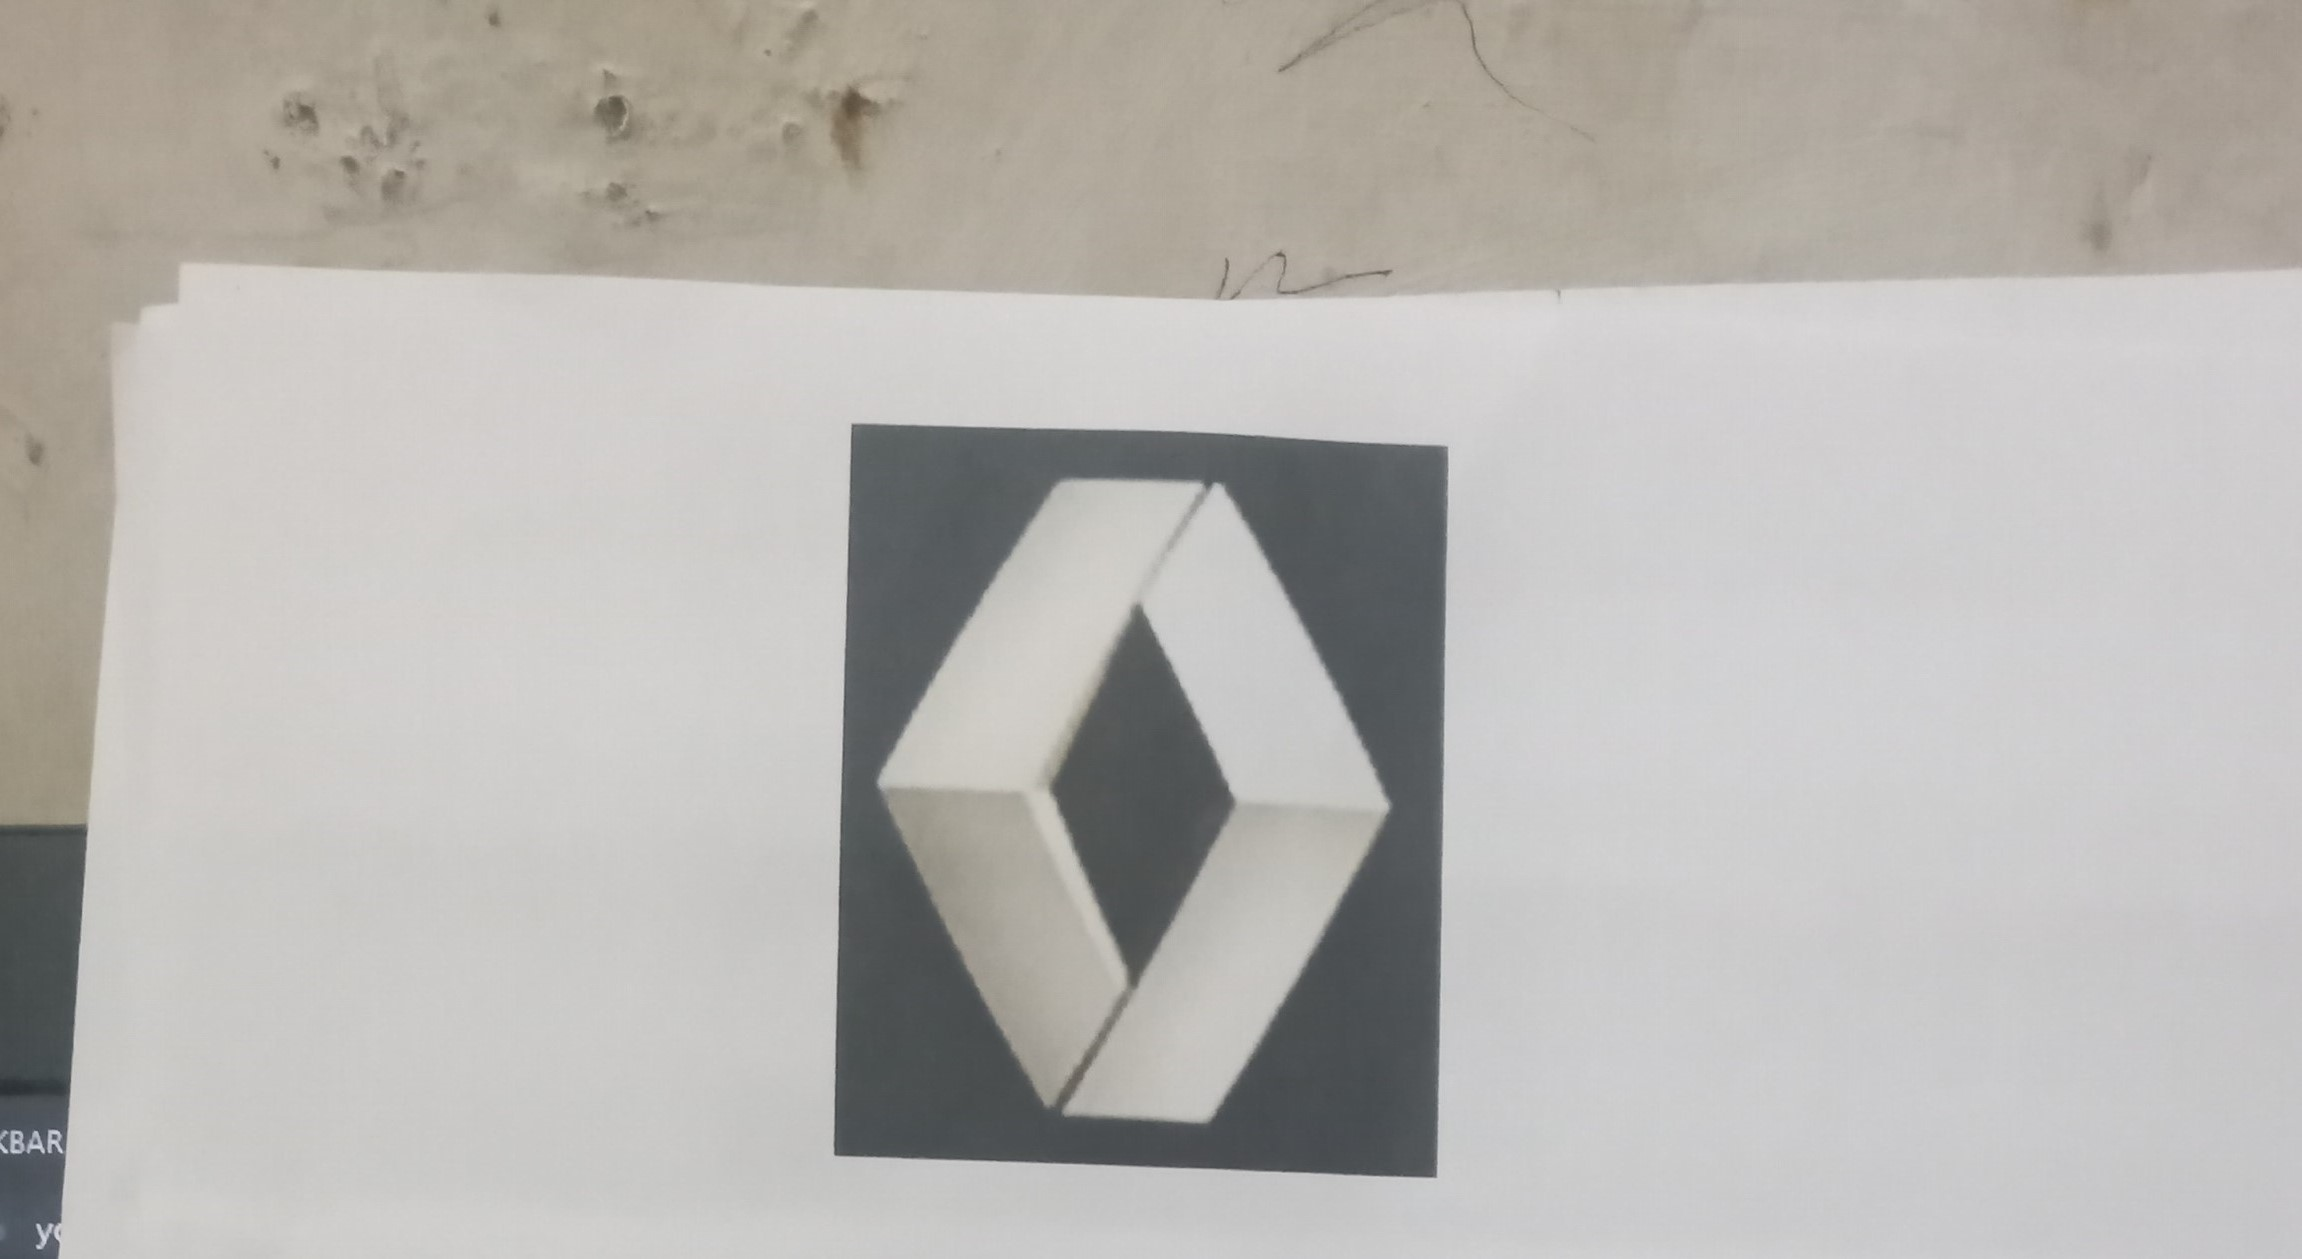Renault: (853, 448, 1408, 1155)
